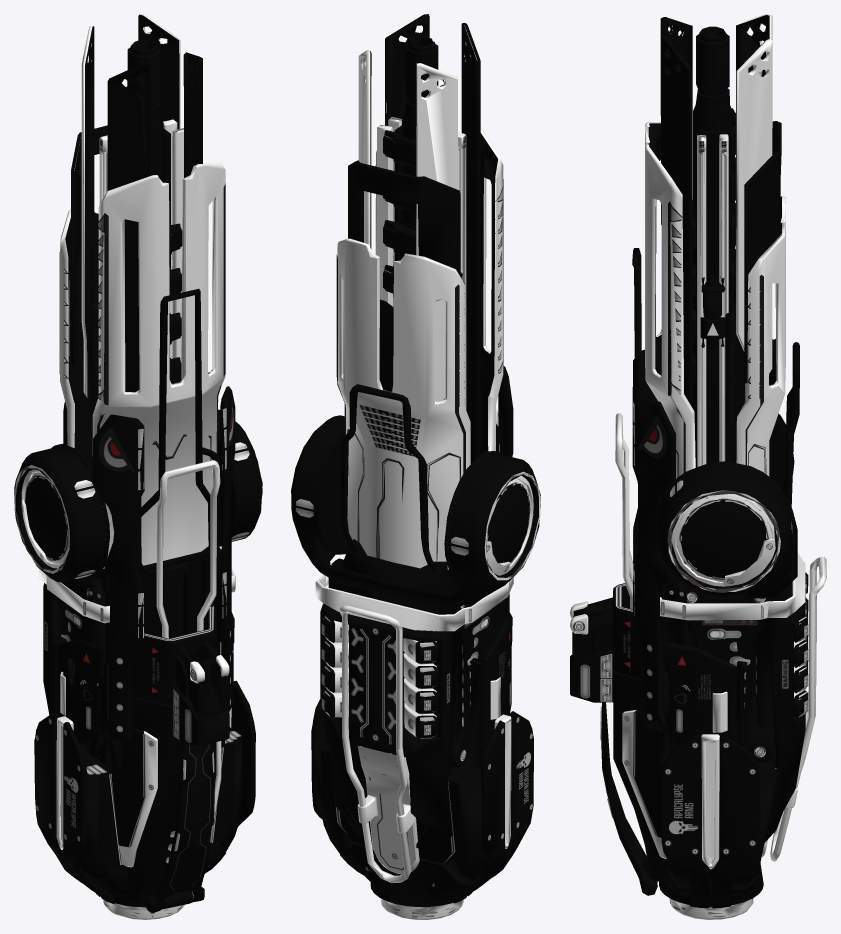
File: hellion-scattergun-sharkmouth-edition.glb
3 views of the same model, side by side, from view 1: azimuth 30°, elevation 25°; view 2: azimuth 150°, elevation 25°; view 3: azimuth 270°, elevation 25° (orthographic).
Visible parts, largest first — view 1: core, bar_body; view 2: core, bar_body; view 3: core, bar_body.
Part boxes in pixels (x1,y1,x2,y2): core: (14,14,262,919); bar_body: (59,183,234,472); core: (291,14,540,919); bar_body: (336,165,503,548); core: (570,14,826,919); bar_body: (637,201,763,563).
Size of the model in its own units: 0.5469 by 2.32 by 0.6158.
10 materials, 6 textured.
